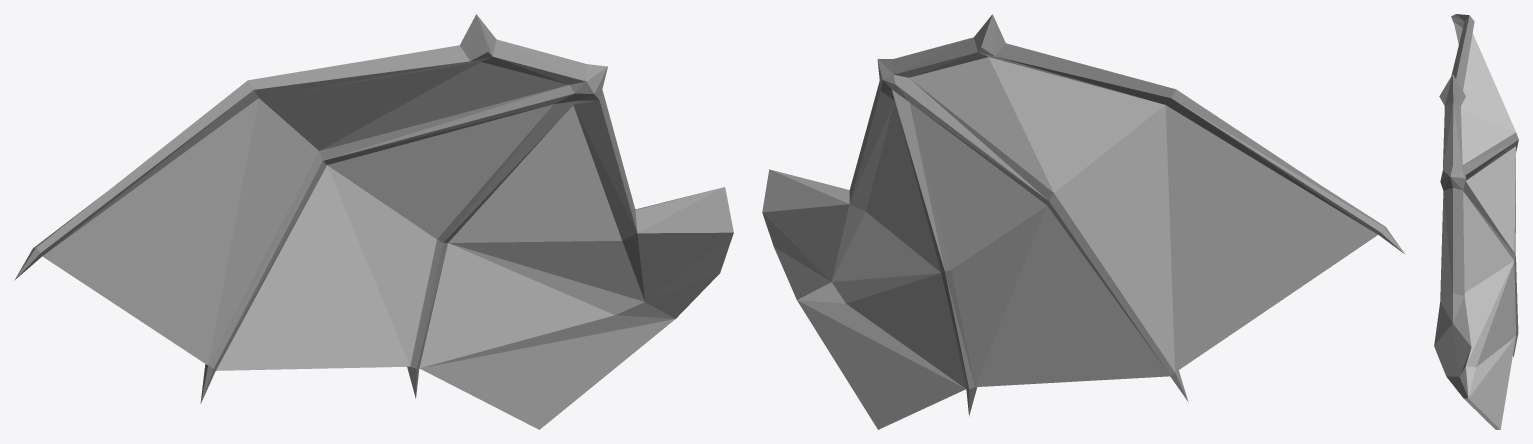
The model's file is Enemy_Bat_Extended.fbx.
The picture shows the model from 3 angles, left to right: view 1: azimuth 30°, elevation 25°; view 2: azimuth 150°, elevation 25°; view 3: azimuth 270°, elevation 25°; orthographic projection. The views are drawn at different scales.
Parts seen in each view (by area): view 1: Enemy_Bat_Extended; view 2: Enemy_Bat_Extended; view 3: Enemy_Bat_Extended.
Boxes of the visible parts, box(x1,y1,x2,y2) form: Enemy_Bat_Extended: box(14, 14, 733, 429); Enemy_Bat_Extended: box(762, 14, 1405, 429); Enemy_Bat_Extended: box(1434, 14, 1518, 429).
Bounding box in the file's own units: 407 × 253 × 59.9.
